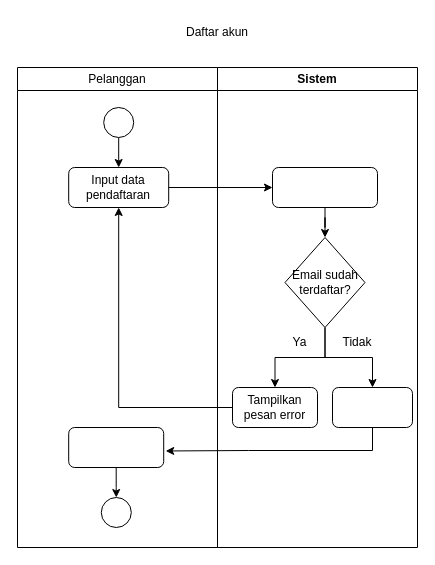
This 435x565 diagram has some shape labels left out. The centre of each missing label's shape, as x and y in pixels:
"Cek email" belongs at [325,187].
"Daftar berhasil" belongs at [116,447].
"Simpan data user" belongs at [372,407].
